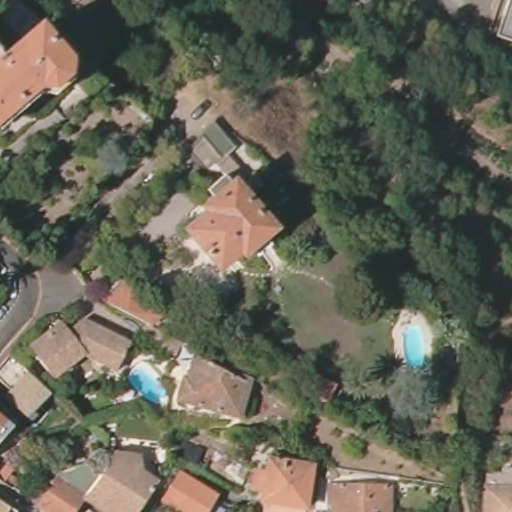pool: (128, 360, 168, 408), (399, 320, 430, 374)
